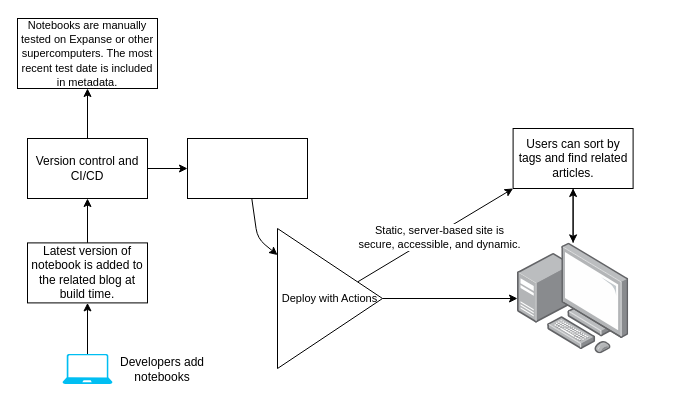
The diagram is 697 pixels wide and 407 high, and some of its shapes have lost their labels. Each missing label, with the centre of its shape:
"GitHub" goes at point 247,168.
"Users can access all notebooks through the web interface." goes at point 572,298.
